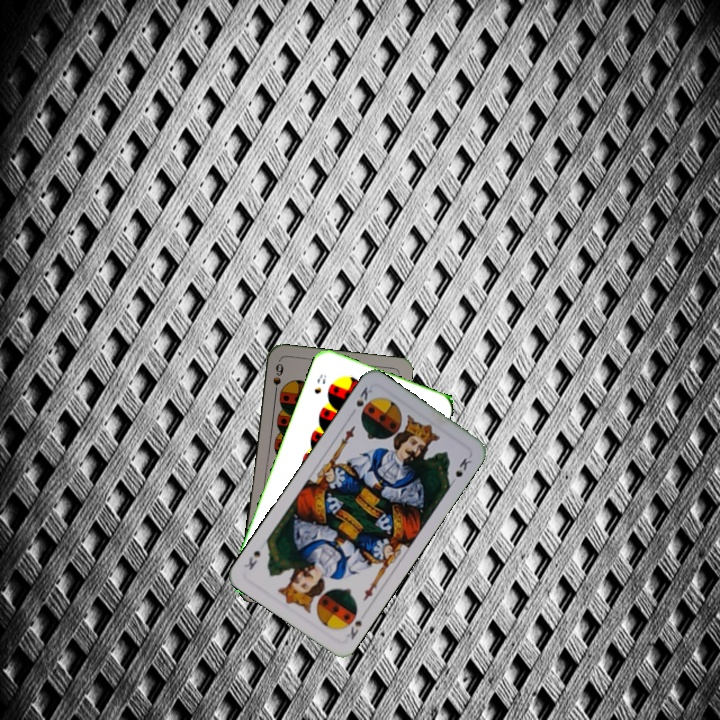S8: (310, 370, 329, 396)
S9: (269, 359, 286, 399)
SK: (352, 382, 375, 409), (342, 616, 365, 642)
